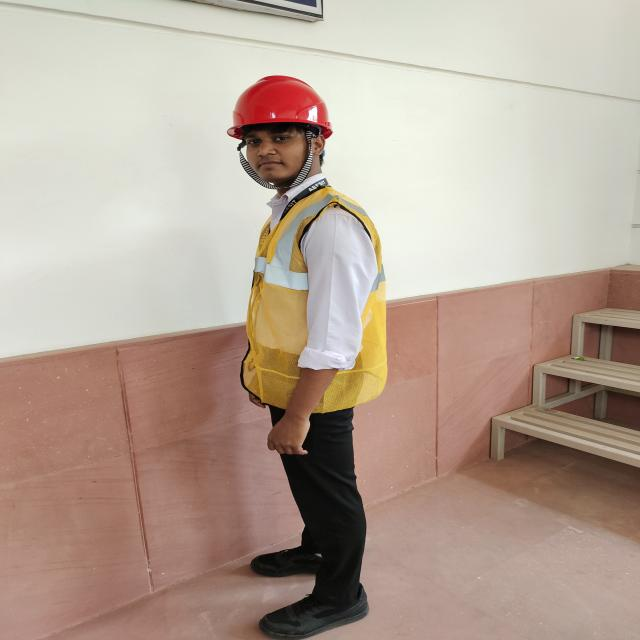safe: (230, 75, 388, 638)
